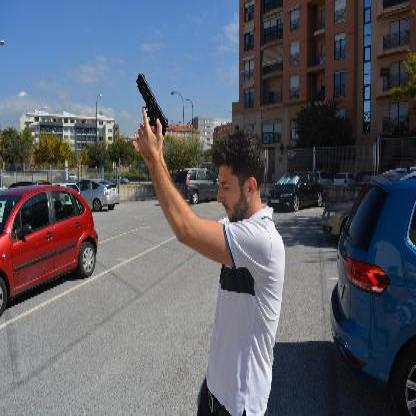pistol: (136, 72, 168, 137)
